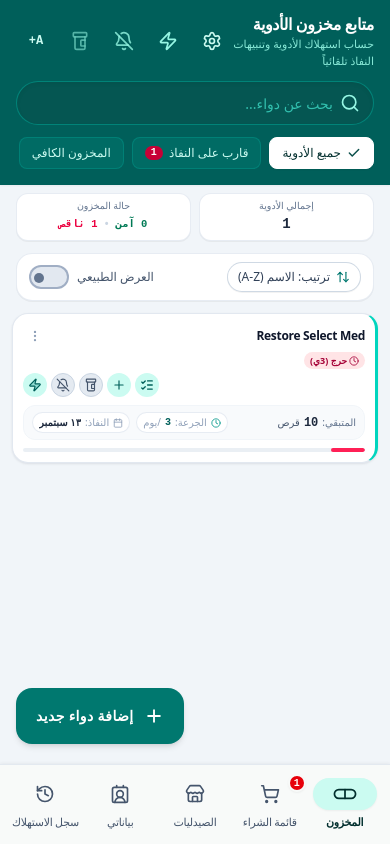
Scenario: MedicationCard multi-dose Restore → SelectDoseModal › closing SelectDoseModal without selecting does not restore
The image size is (390, 844).
Check: the heading "Restore Select Med" is shown, box [256,327,365,344]
Click the button named "إدارة الجرعات" at x=147, y=385, box [135,373,159,397]
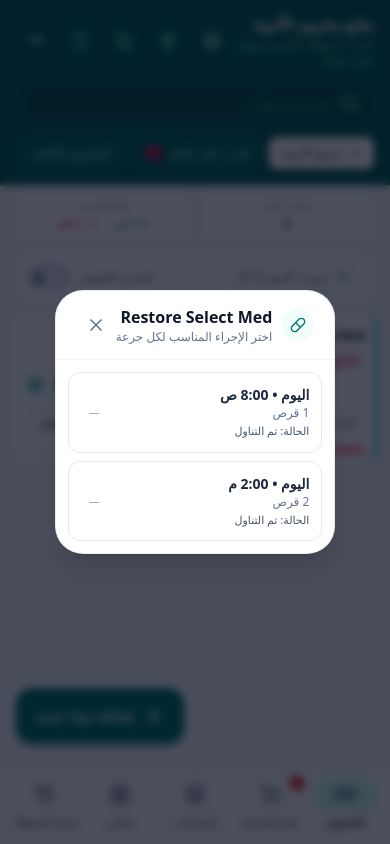
Check: the text "اختر الإجراء المناسب لكل جرعة" is shown, box [116,329,272,345]
Click the button named "إغلاق" at x=96, y=325, box [76,305,116,345]
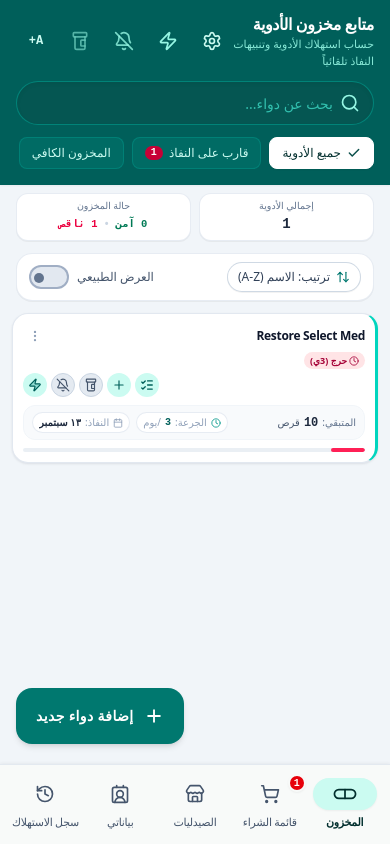
Check: the text "اختر الإجراء المناسب لكل جرعة" is gone
